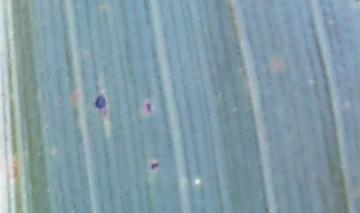tarspot: (93, 94, 110, 116), (143, 99, 153, 114), (149, 161, 160, 171)
